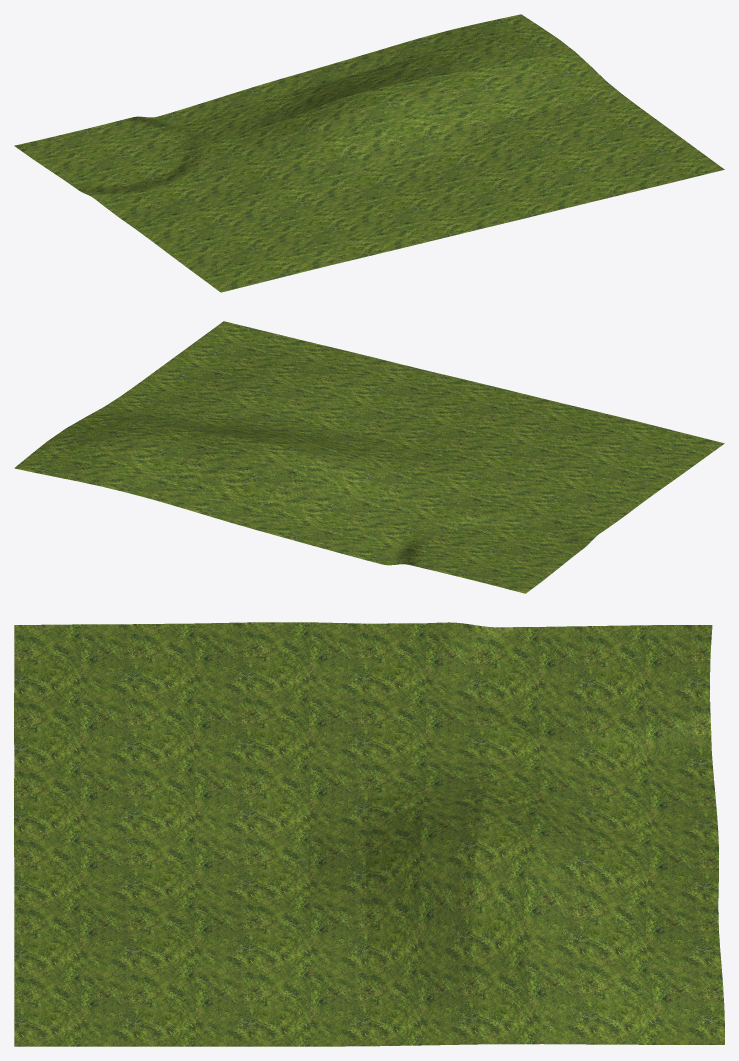
The model's file is forest_ground.glb.
The picture shows the model from 3 angles, top to bottom: view 1: azimuth 30°, elevation 25°; view 2: azimuth 150°, elevation 25°; view 3: azimuth 270°, elevation 25°; orthographic projection. The views are drawn at different scales.
Visible parts, largest first — view 1: part0; view 2: part0; view 3: part0.
Boxes of the visible parts, x1,y1,x2,y2 form: part0: (14,14,724,292); part0: (14,321,724,593); part0: (14,622,724,1046).
Bounding box in the file's own units: 2298 × 112 × 1611.
Materials: 1 (1 with a texture image).
